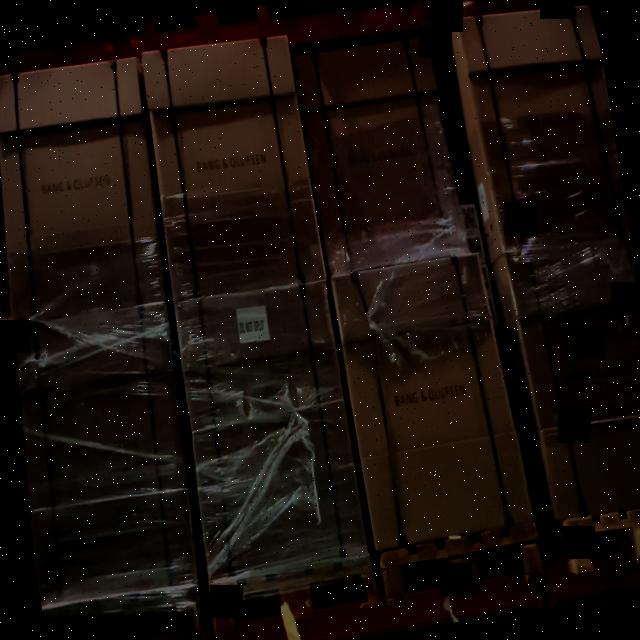box: (334, 250, 535, 549), (172, 282, 372, 578), (16, 301, 199, 598), (141, 34, 326, 299), (0, 55, 165, 322), (296, 34, 472, 279)
